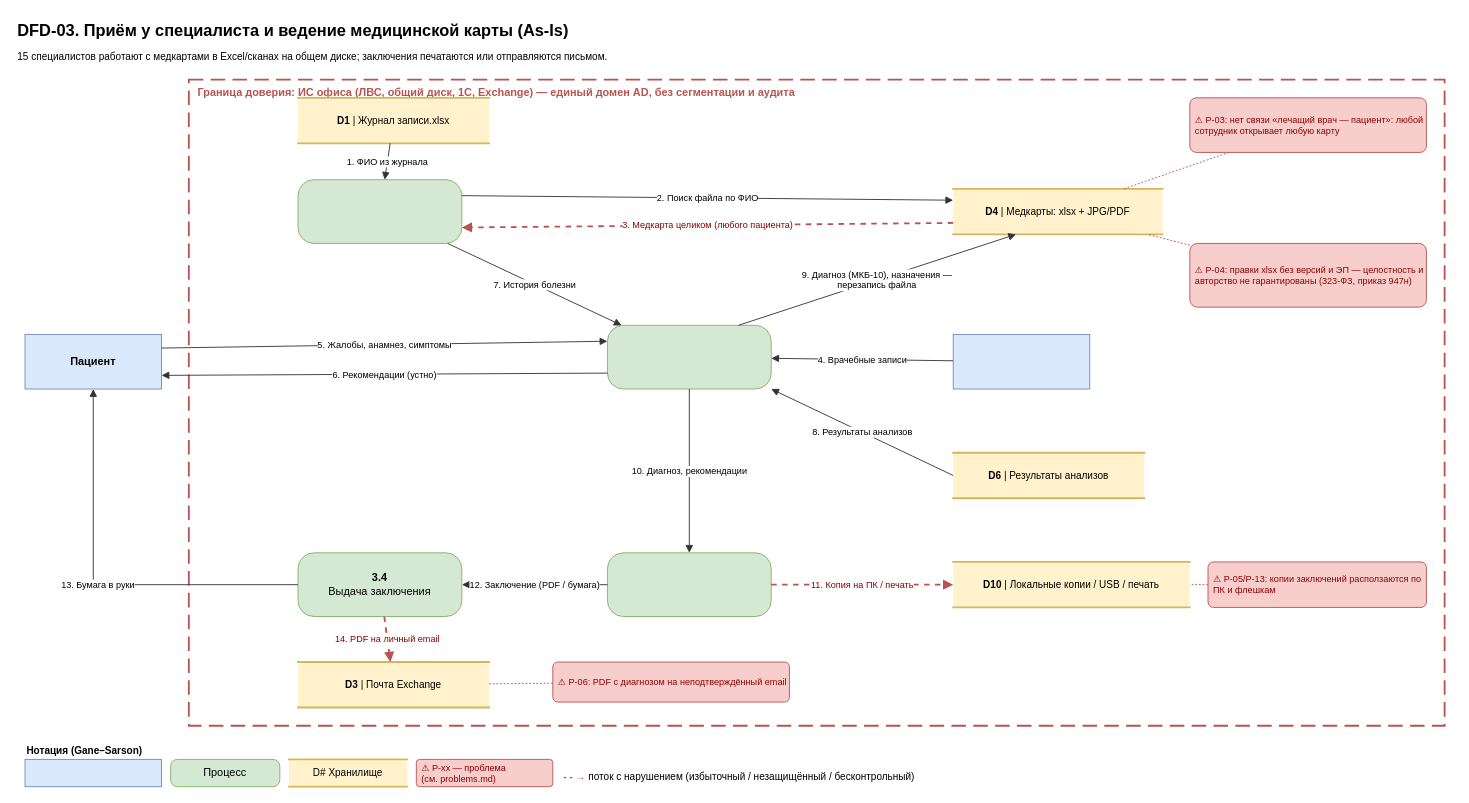
This 1469x803 diagram has some shape labels left out. The shapes that lost their labels are listed below. From the top down, each one's centre as x and y in pixels, then its label:
point (379, 211): 3.1 Открытие медкарты пациента
point (689, 356): 3.2 Осмотр, анамнез, диагноз, назначения
point (1021, 361): Медицинский специалист
point (689, 584): 3.3 Оформление заключения
point (93, 772): Внешняя сущность / роль
